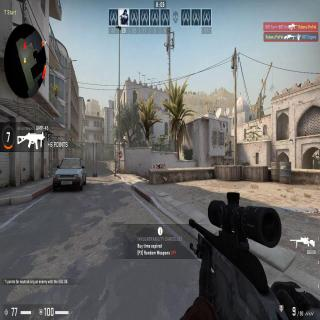CT-Head: (158, 162, 160, 168)
